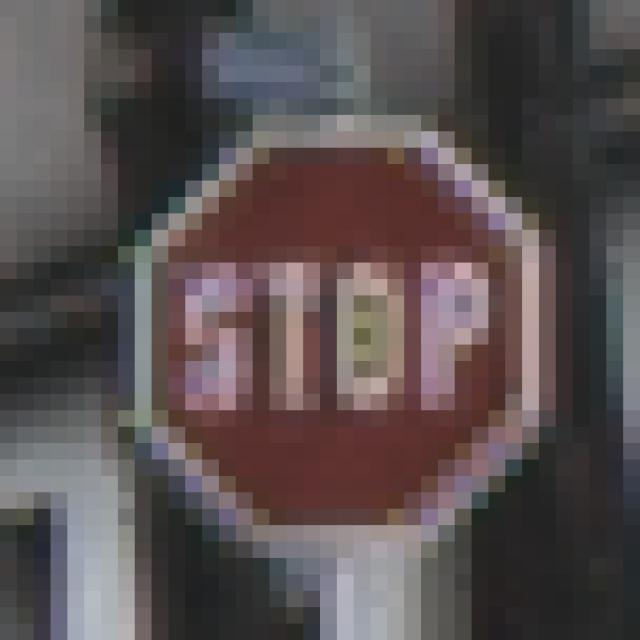STOP: (102, 99, 557, 559)
